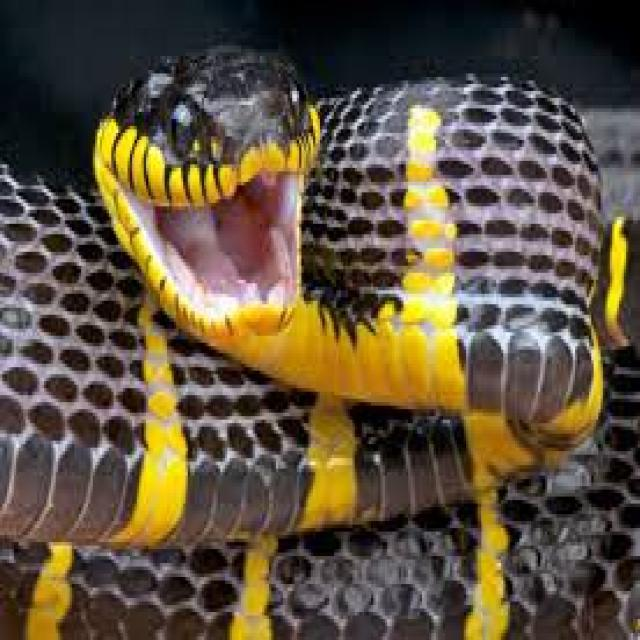Snake: (0, 31, 633, 640)
